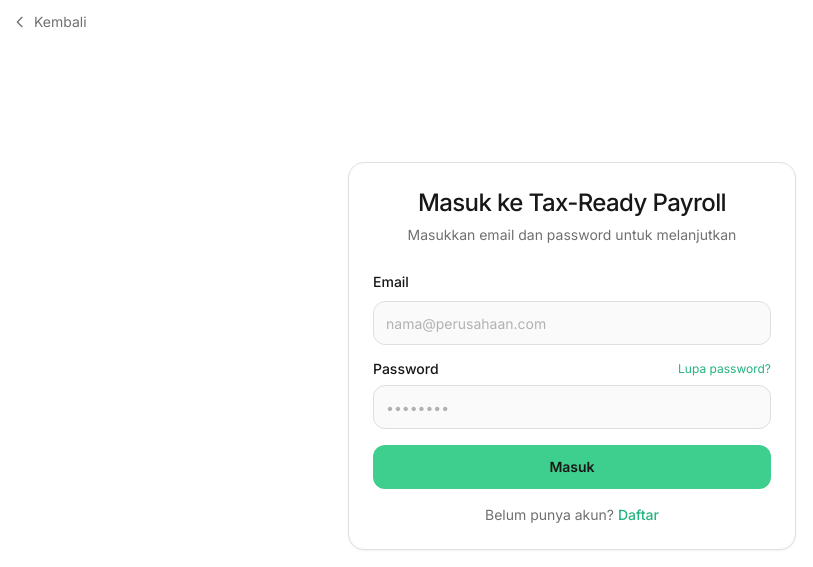
Scenario: LoginPage › shows forgot password form when link clicked
Click the button "Lupa password?": x=725, y=369 [678,361,771,377]
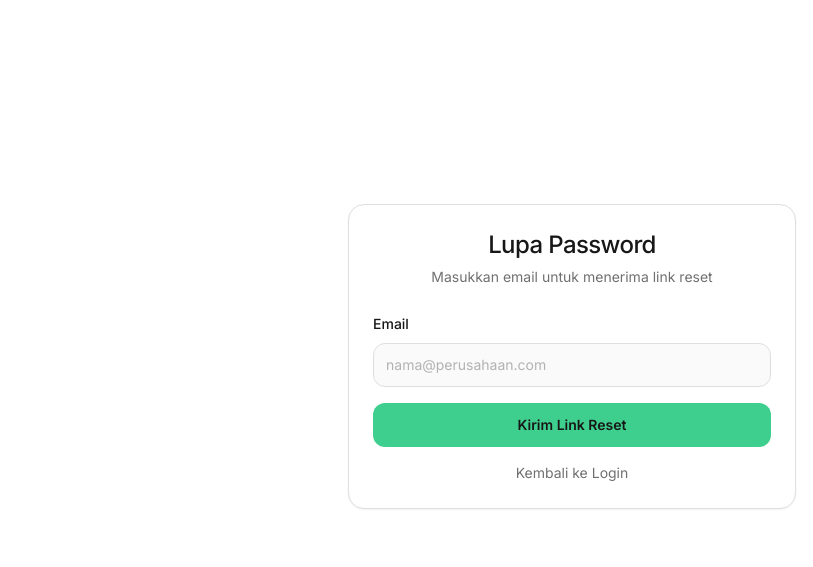
Check: the heading "Lupa Password" is shown, box [488,230,656,258]
Check: the button "Kirim Link Reset" is shown, box [373,402,771,446]
